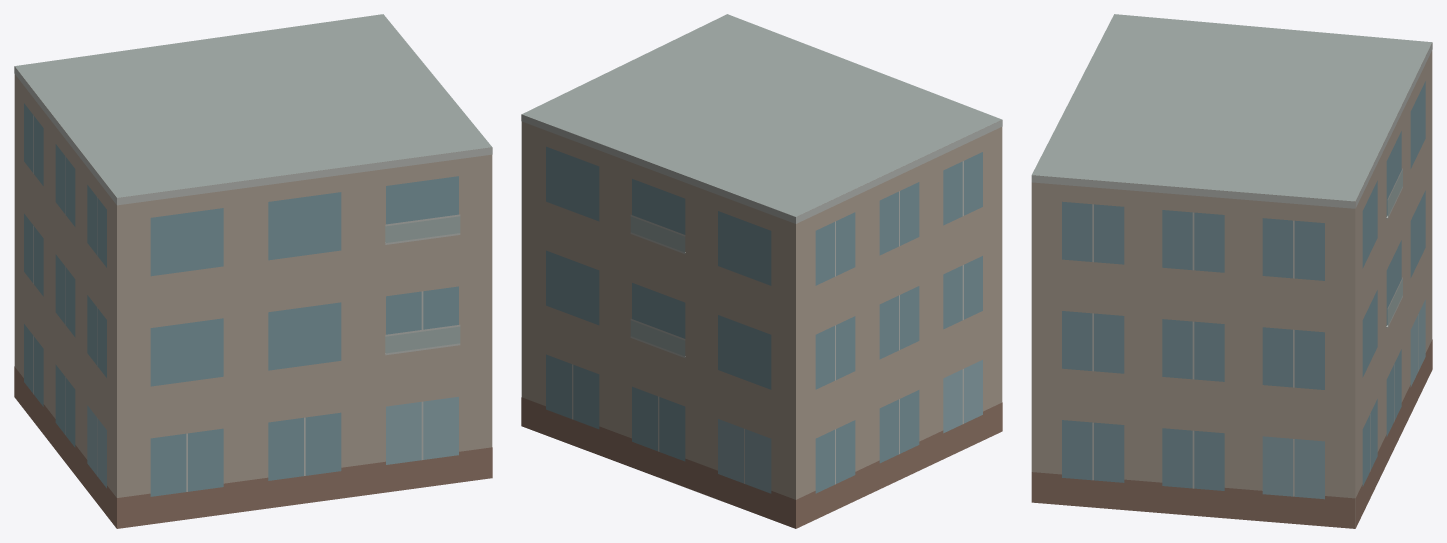
Rendered from survey-upis-32932921.glb.
3 renders of one model, left to right at view 1: azimuth 30°, elevation 25°; view 2: azimuth 150°, elevation 25°; view 3: azimuth 270°, elevation 25°, orthographic. The views are drawn at different scales.
Visible parts, largest first — view 1: survey-upis-32932921.tmp; view 2: survey-upis-32932921.tmp; view 3: survey-upis-32932921.tmp.
Boxes of the visible parts, left/top/right/bottom form: survey-upis-32932921.tmp: left=14, top=14, right=492, bottom=528; survey-upis-32932921.tmp: left=521, top=14, right=1002, bottom=528; survey-upis-32932921.tmp: left=1031, top=14, right=1432, bottom=528.
Size of the model in its own units: 13.4 by 10.9 by 12.11.
